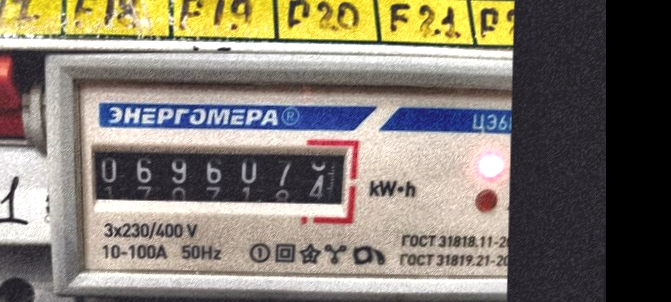0: (98, 153, 119, 184), (239, 154, 259, 184)
4: (306, 172, 326, 200)
6: (132, 153, 155, 184), (204, 155, 224, 184)
7: (274, 156, 292, 186)
9: (169, 155, 188, 185)
screen: (73, 126, 361, 223)
